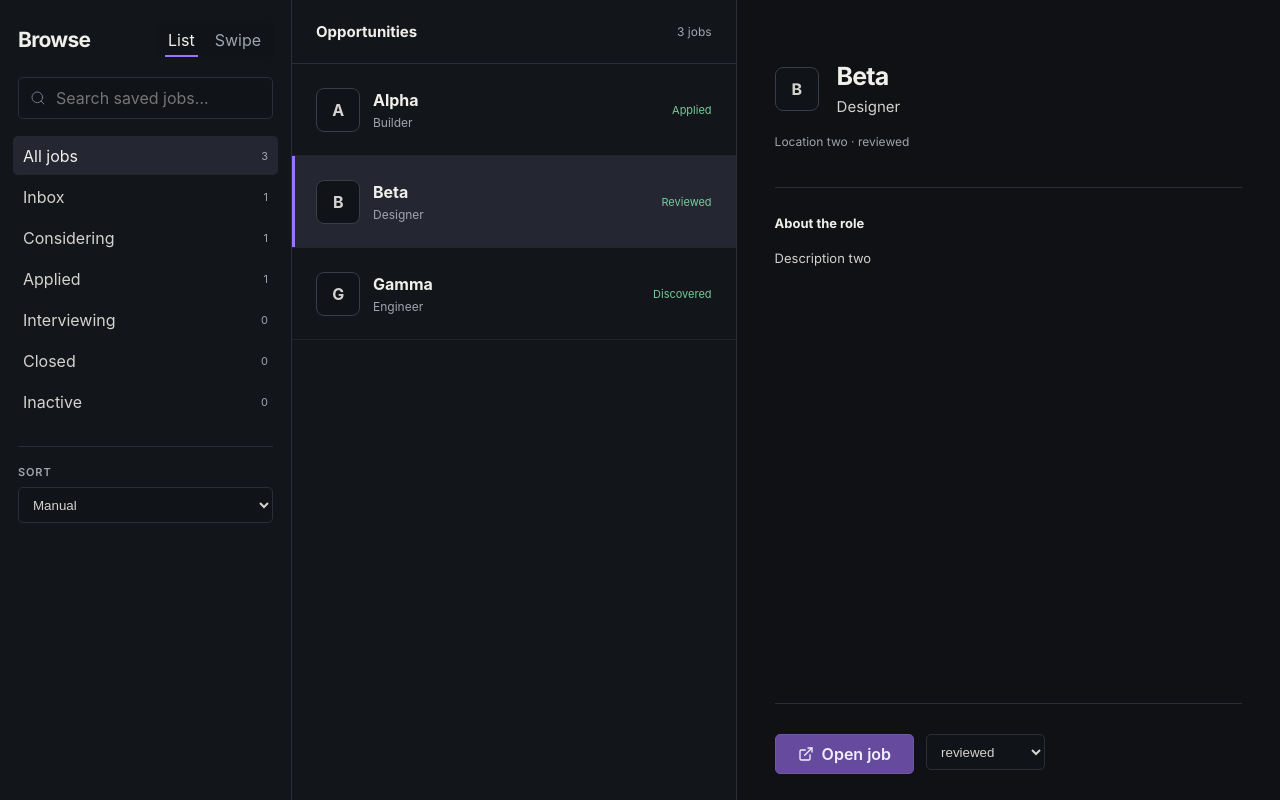
it: list and swipe share local focus without selecting the authoritative job
Expected: the text "Description two" is shown, [775,251,871,267]
Click the button "G Gamma Engineer discovered": (338, 294) [292,248,736,340]
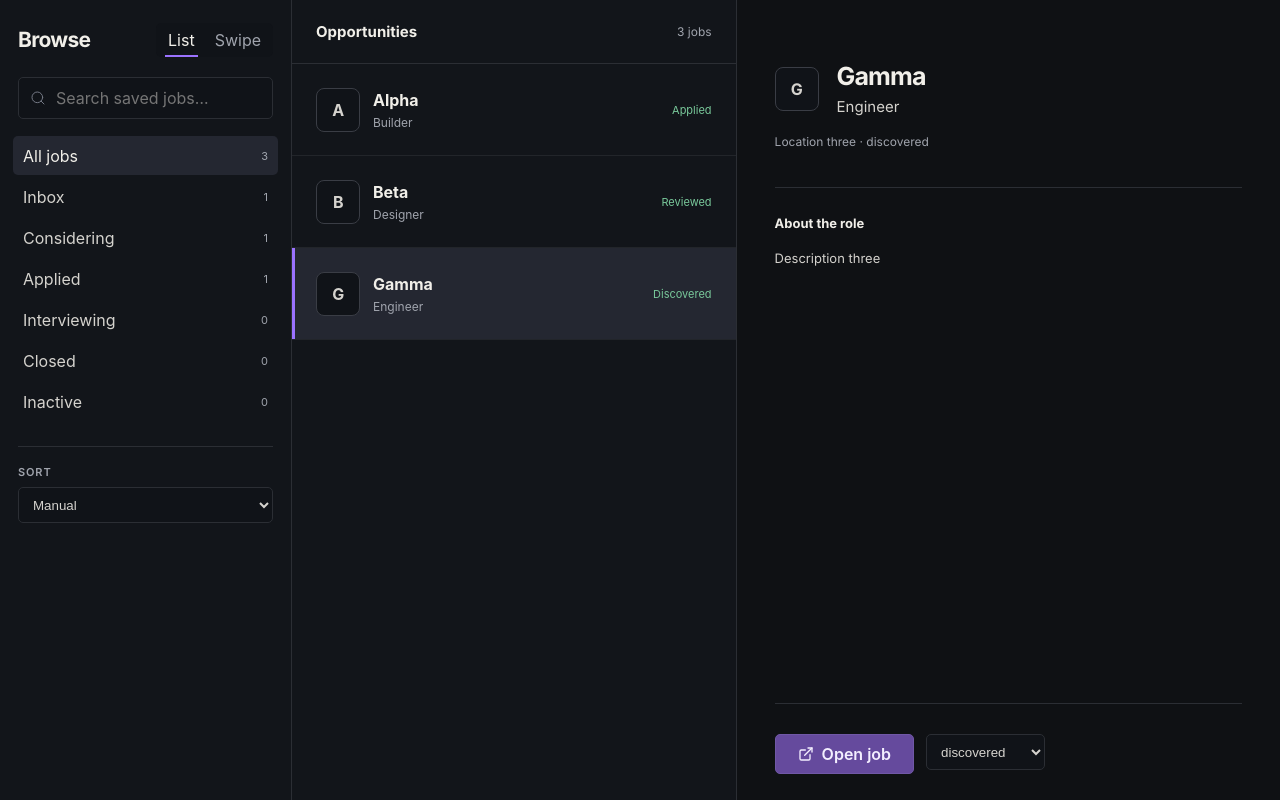
Now the text "Description three" is shown, box [775,251,880,267]
Click the button "Swipe": (238, 40) [205,25,271,55]
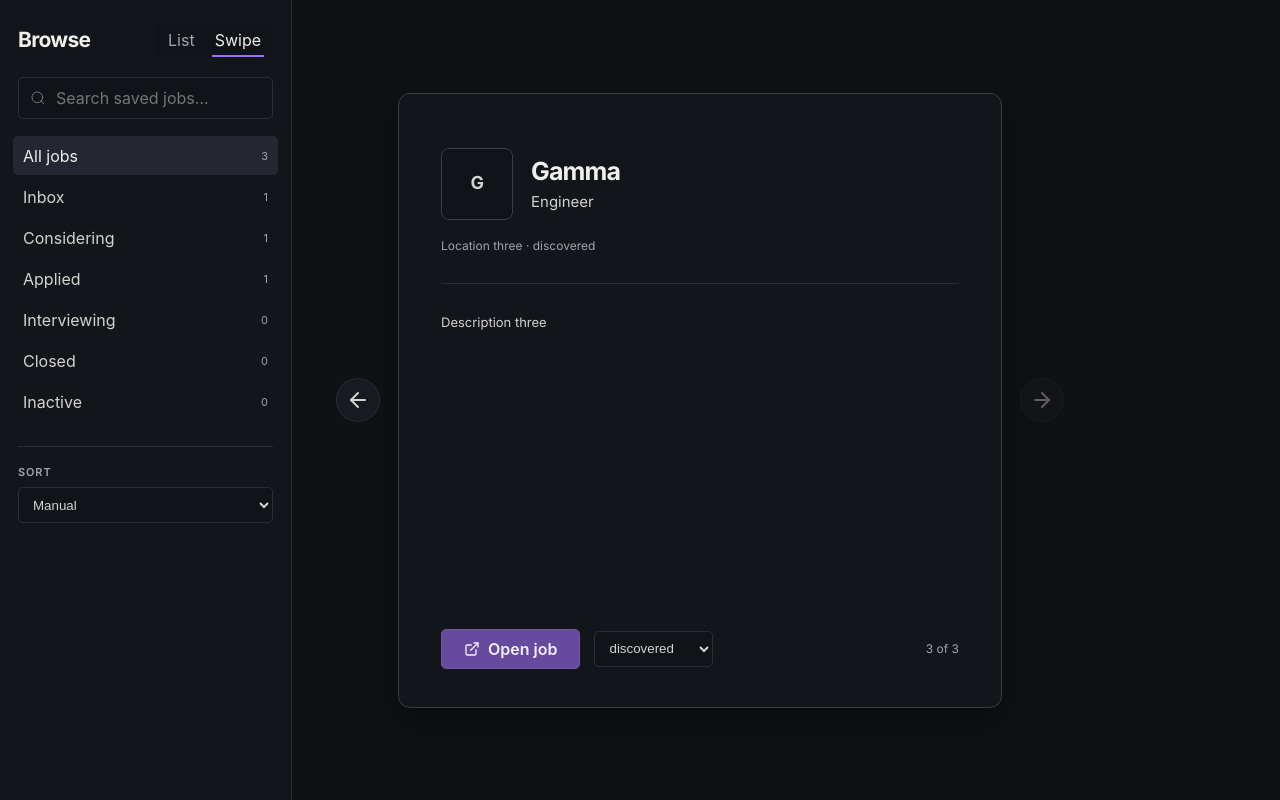
Now the heading "Gamma" is shown, box [531,156,620,186]
Now the text "3 of 3" is shown, box [926,641,959,656]
In the field labelled "Search saved jobs": (158, 98) [54,87,261,109], type "Alpha"
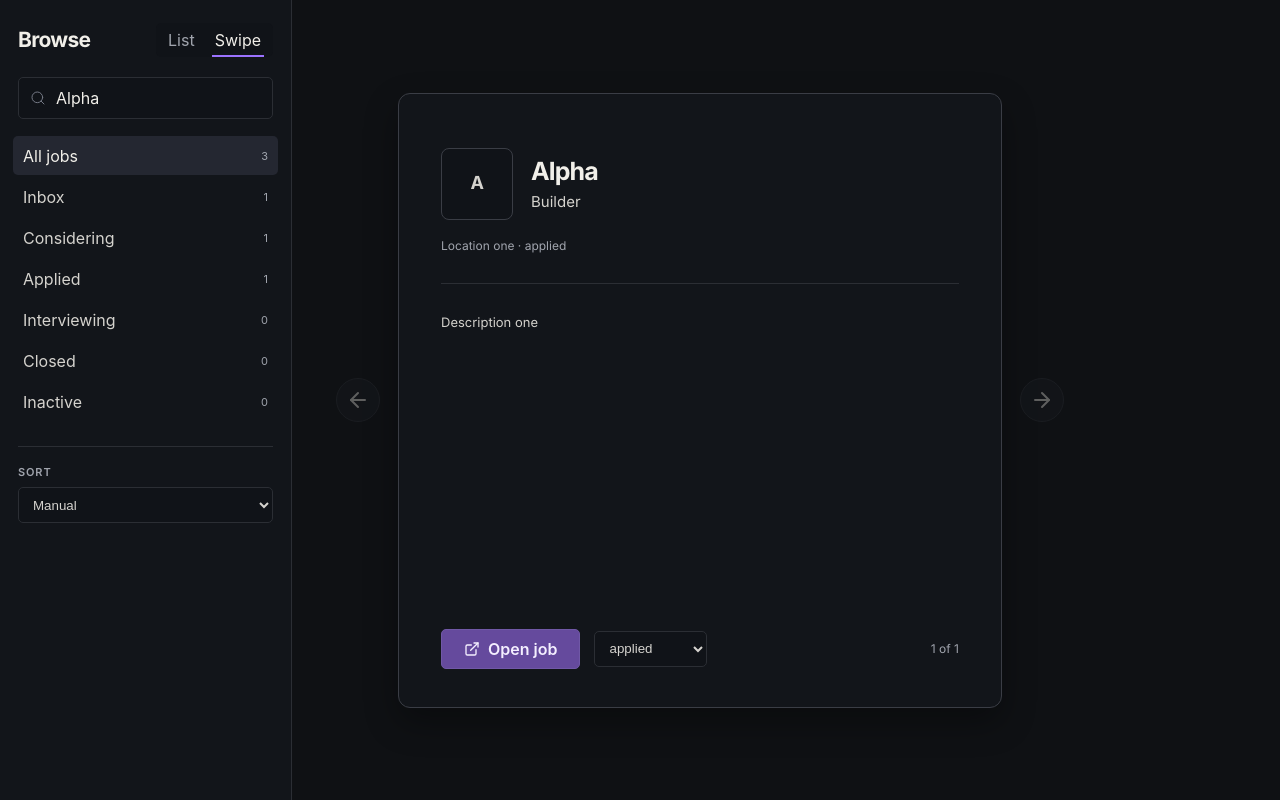
Now the heading "Alpha" is shown, box [531,156,598,186]
Now the text "1 of 1" is shown, box [931,641,959,656]
